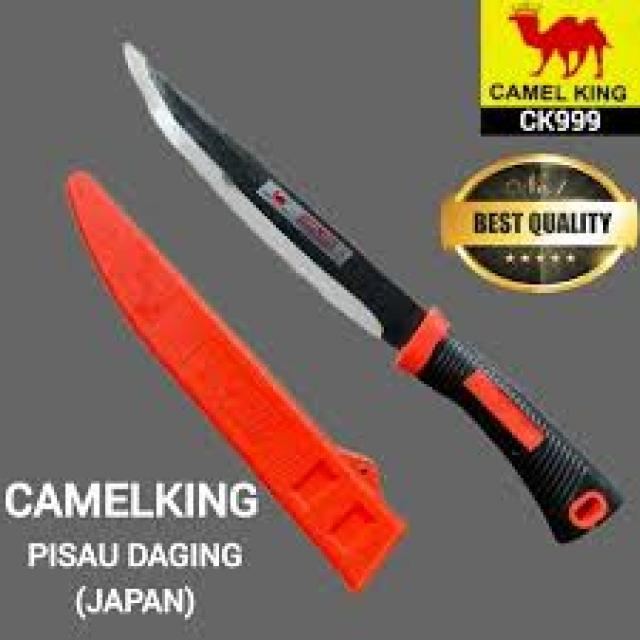Knife: (122, 40, 623, 540)
